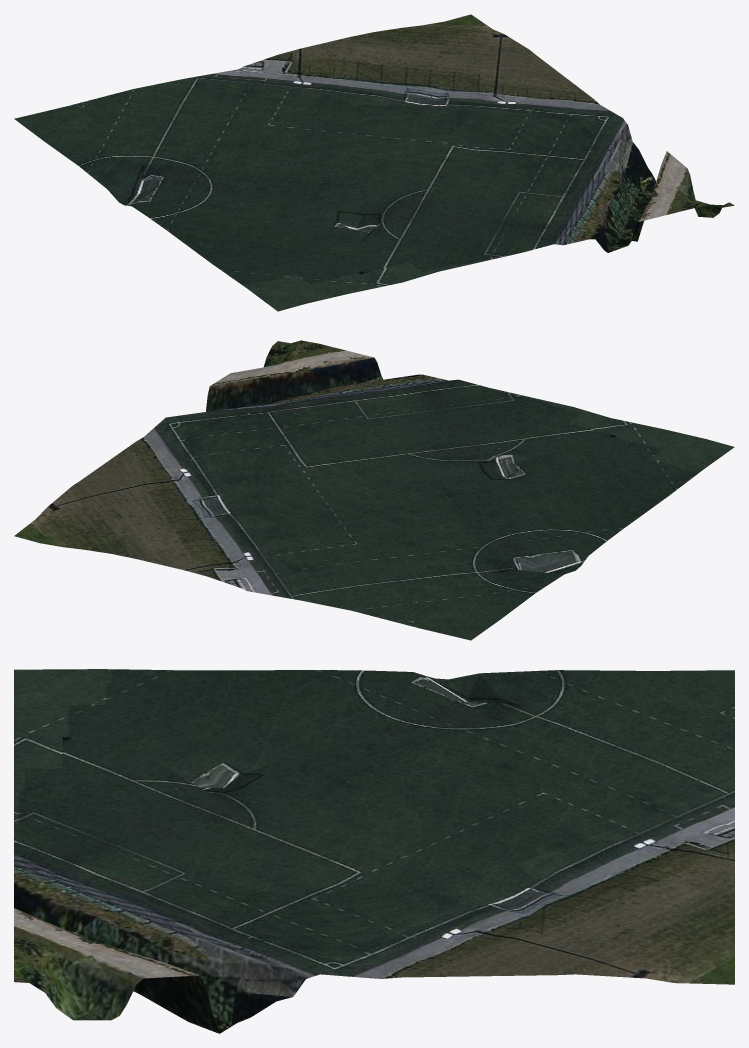
The model's file is map_15_8184_13791.dae.
3 renders of one model, top to bottom at view 1: azimuth 30°, elevation 25°; view 2: azimuth 150°, elevation 25°; view 3: azimuth 270°, elevation 25°, orthographic. The views are drawn at different scales.
Parts seen in each view (by area): view 1: Ter0; view 2: Ter0; view 3: Ter0.
Part boxes in pixels (x1,y1,x2,y2): Ter0: (14,14,734,311); Ter0: (14,340,734,640); Ter0: (14,669,734,1033).
Bounding box in the file's own units: 63.88 × 63.88 × 6.5.
3 materials, 3 textured.
